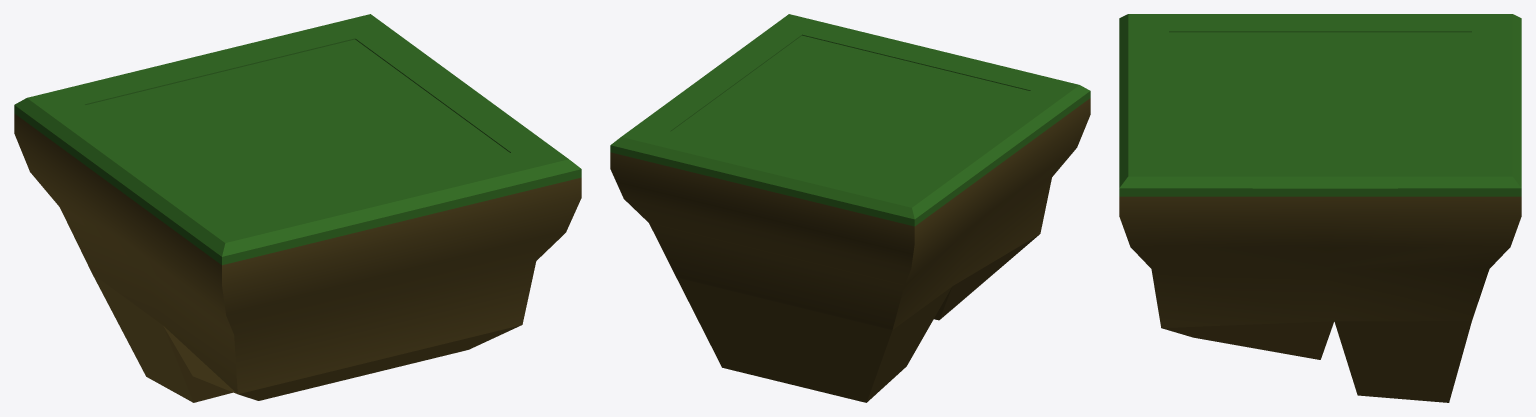
The model's file is SM_ISLA_1.fbx.
3 views of the same model, side by side, from view 1: azimuth 30°, elevation 25°; view 2: azimuth 150°, elevation 25°; view 3: azimuth 270°, elevation 25° (orthographic). The views are drawn at different scales.
Visible parts, largest first — view 1: pCube2; view 2: pCube2; view 3: pCube2.
Part boxes in pixels (x1,y1,x2,y2): pCube2: (14,14,581,402); pCube2: (610,14,1090,402); pCube2: (1119,14,1521,402).
Bounding box in the file's own units: 39.38 × 28.85 × 39.38.
